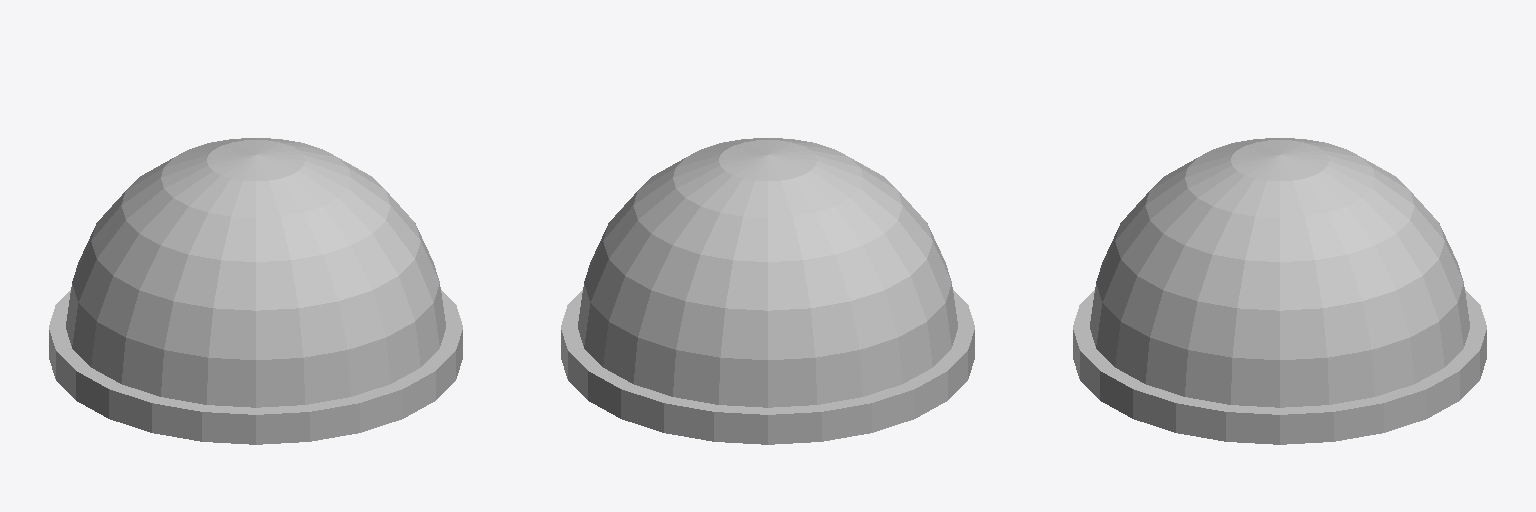
File: lamp_top.obj
3 renders of one model, left to right at view 1: azimuth 30°, elevation 25°; view 2: azimuth 150°, elevation 25°; view 3: azimuth 270°, elevation 25°, orthographic.
Visible parts, largest first — view 1: Sphere; view 2: Sphere; view 3: Sphere.
Part boxes in pixels (left/top/right/bottom): Sphere: left=49, top=138, right=462, bottom=444; Sphere: left=561, top=138, right=974, bottom=444; Sphere: left=1073, top=138, right=1486, bottom=444.
Bounding box in the file's own units: 2.18 × 1.17 × 2.18.